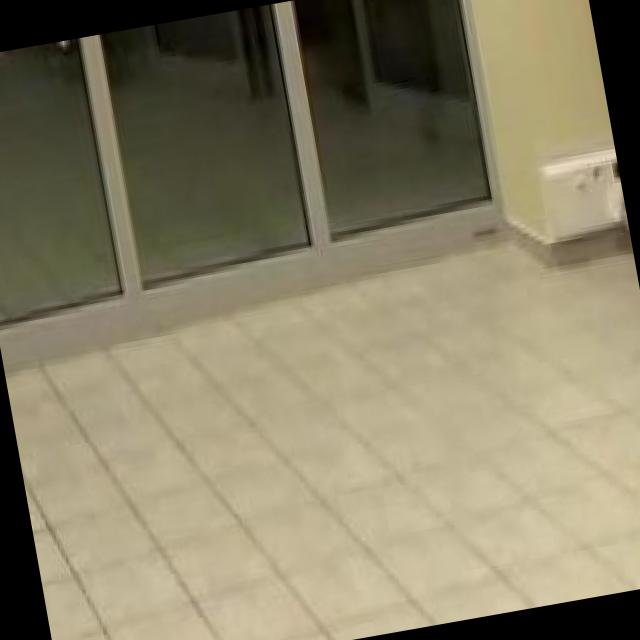Guns: (0, 37, 85, 74)
